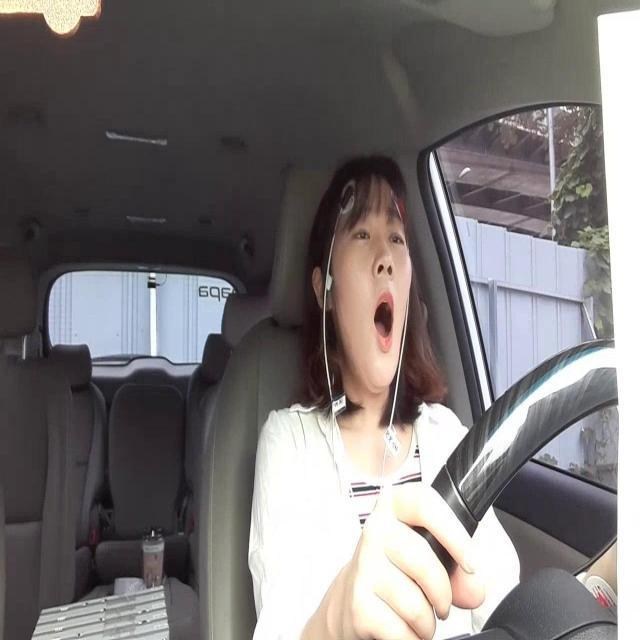Attentive: (314, 149, 414, 399)
Yawning: (369, 286, 399, 350)
